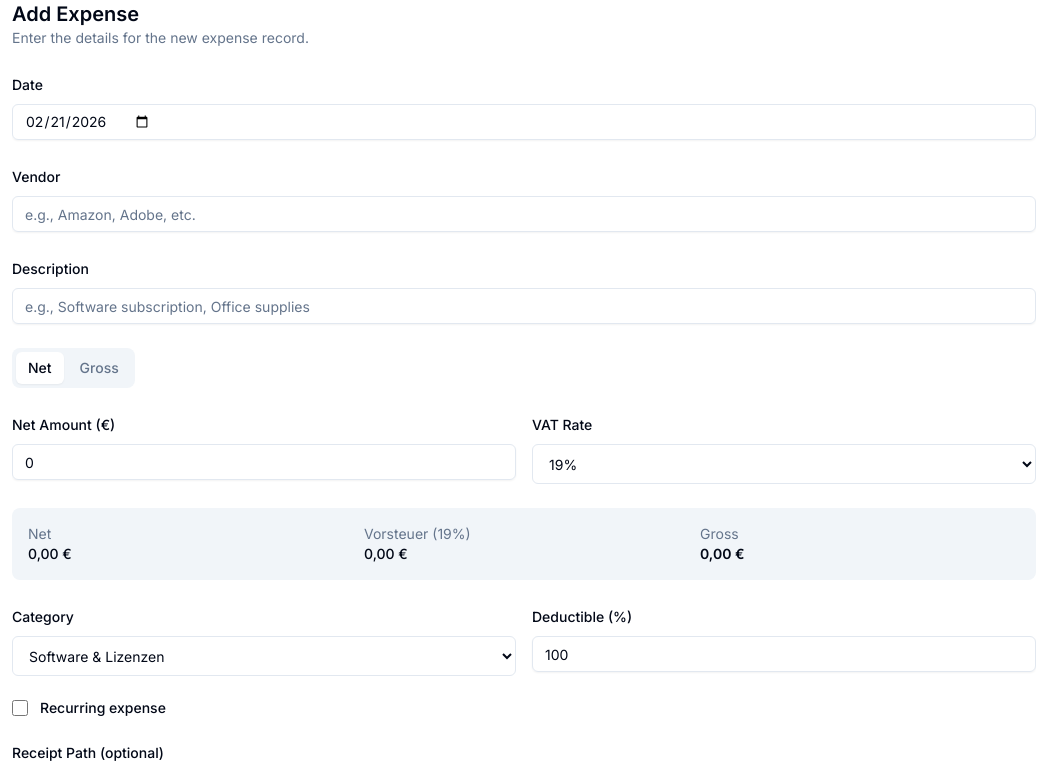
it: ExpenseForm › recurring expense › shows frequency selector when recurring is enabled
This screenshot has width=1048, height=768.
Expected: the field labelled "frequency" is not shown
Click the checkbox labelled "Recurring expense" at (20, 708), box x1=12 y1=700 x2=28 y2=716
(page scrolled)
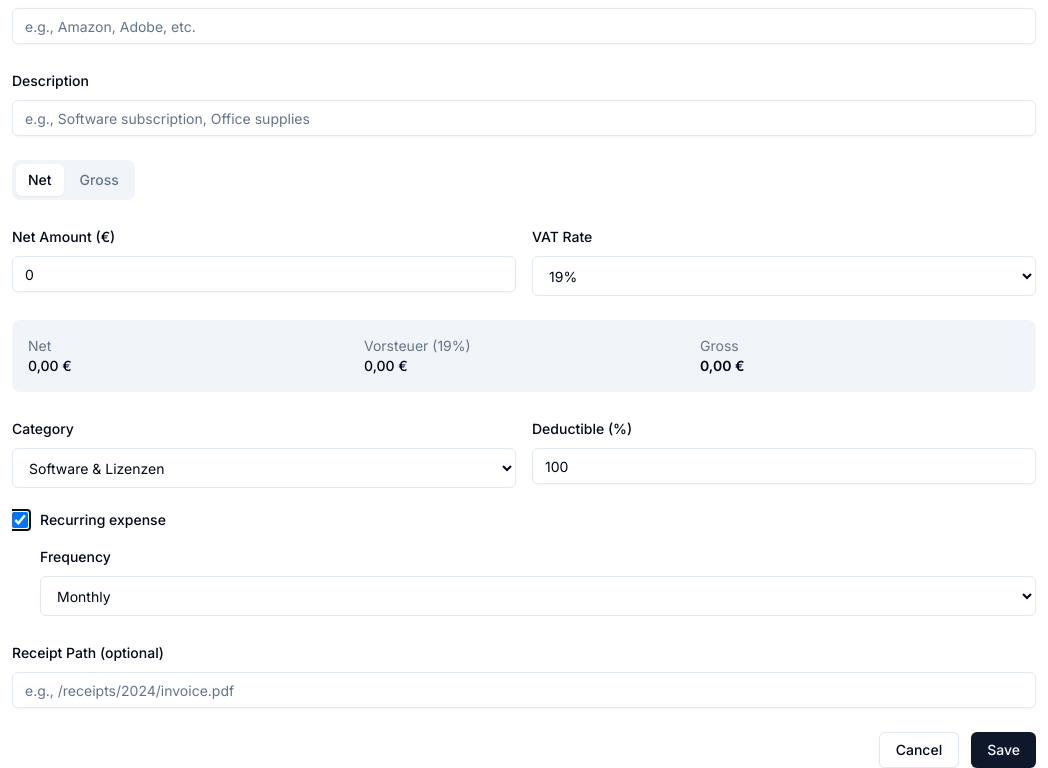
Now the dropdown labelled "Frequency" is shown, box x1=40 y1=576 x2=1036 y2=616
